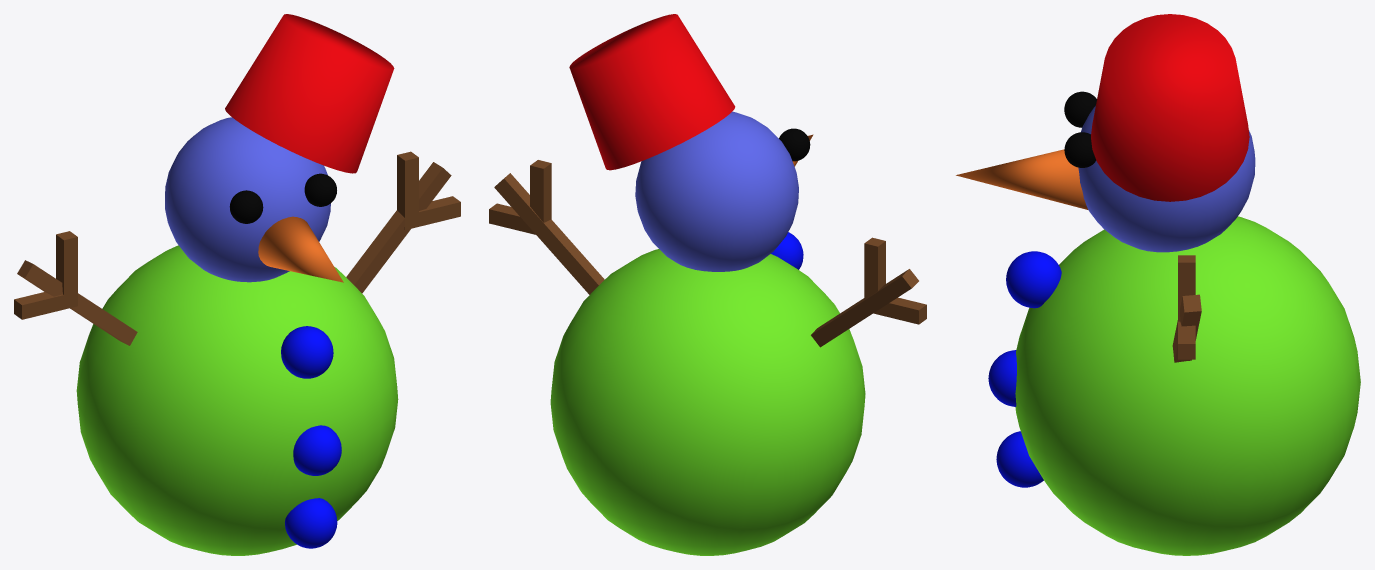
The picture shows the model from 3 angles, left to right: view 1: azimuth 30°, elevation 25°; view 2: azimuth 150°, elevation 25°; view 3: azimuth 270°, elevation 25°; orthographic projection. The views are drawn at different scales.
Visible parts, largest first — view 1: 球, 円柱, 球.001, 立方体.004, 立方体, 円錐, 球.005, 球.006, 球.004, 球.002, 球.003; view 2: 球, 球.001, 円柱, 立方体.004, 立方体, 球.002, 球.005; view 3: 球, 円柱, 球.001, 円錐, 球.005, 立方体.004, 球.006, 球.004, 球.003, 球.002.
Boxes of the visible parts, x1=… form: 球: x1=76, y1=245, x2=398, y2=555; 円柱: x1=225, y1=14, x2=394, y2=173; 球.001: x1=165, y1=117, x2=330, y2=282; 立方体.004: x1=346, y1=151, x2=460, y2=293; 立方体: x1=14, y1=231, x2=137, y2=345; 円錐: x1=258, y1=216, x2=343, y2=282; 球.005: x1=281, y1=326, x2=333, y2=378; 球.006: x1=285, y1=498, x2=337, y2=548; 球.004: x1=293, y1=425, x2=341, y2=475; 球.002: x1=229, y1=190, x2=263, y2=223; 球.003: x1=304, y1=173, x2=336, y2=206; 球: x1=550, y1=249, x2=865, y2=555; 球.001: x1=635, y1=111, x2=798, y2=271; 円柱: x1=569, y1=14, x2=735, y2=170; 立方体.004: x1=489, y1=160, x2=604, y2=294; 立方体: x1=811, y1=237, x2=926, y2=347; 球.002: x1=779, y1=128, x2=810, y2=161; 球.005: x1=771, y1=232, x2=803, y2=269; 球: x1=1015, y1=216, x2=1360, y2=555; 円柱: x1=1091, y1=14, x2=1249, y2=201; 球.001: x1=1078, y1=105, x2=1255, y2=252; 円錐: x1=956, y1=149, x2=1087, y2=209; 球.005: x1=1006, y1=251, x2=1061, y2=308; 立方体.004: x1=1172, y1=255, x2=1201, y2=362; 球.006: x1=996, y1=431, x2=1043, y2=487; 球.004: x1=988, y1=350, x2=1016, y2=406; 球.003: x1=1064, y1=132, x2=1096, y2=167; 球.002: x1=1064, y1=91, x2=1096, y2=127.
Size of the model in its own units: 1.21 by 1.34 by 0.8949.
